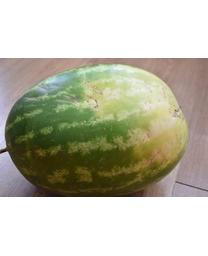watermelon: (5, 64, 190, 194)
